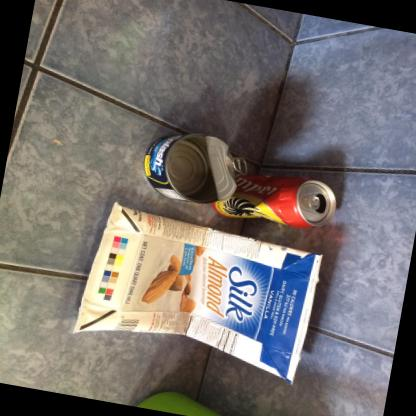Metal: (143, 133, 246, 204), (209, 173, 334, 228), (231, 157, 246, 174), (308, 195, 318, 209)
Paper: (72, 202, 321, 384)
